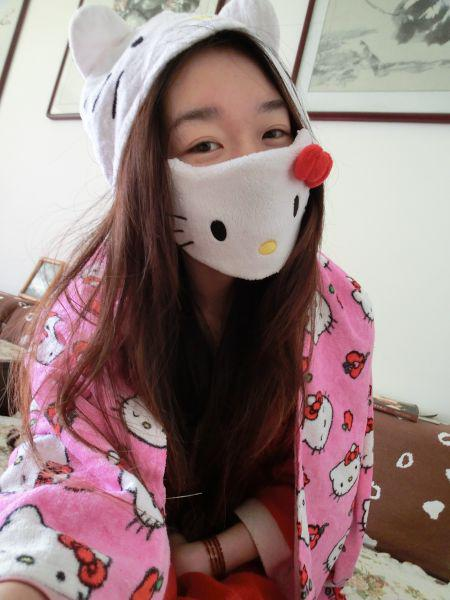OK: (151, 93, 332, 274)
